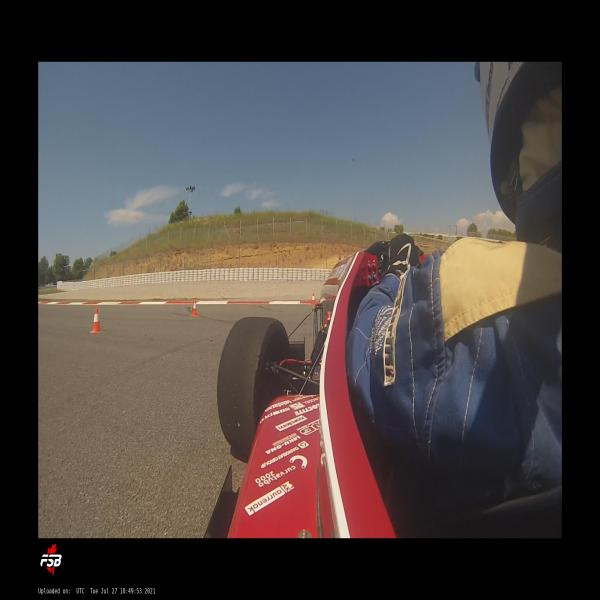orange_cone: (91, 308, 103, 333), (191, 297, 198, 316), (312, 292, 315, 304)
